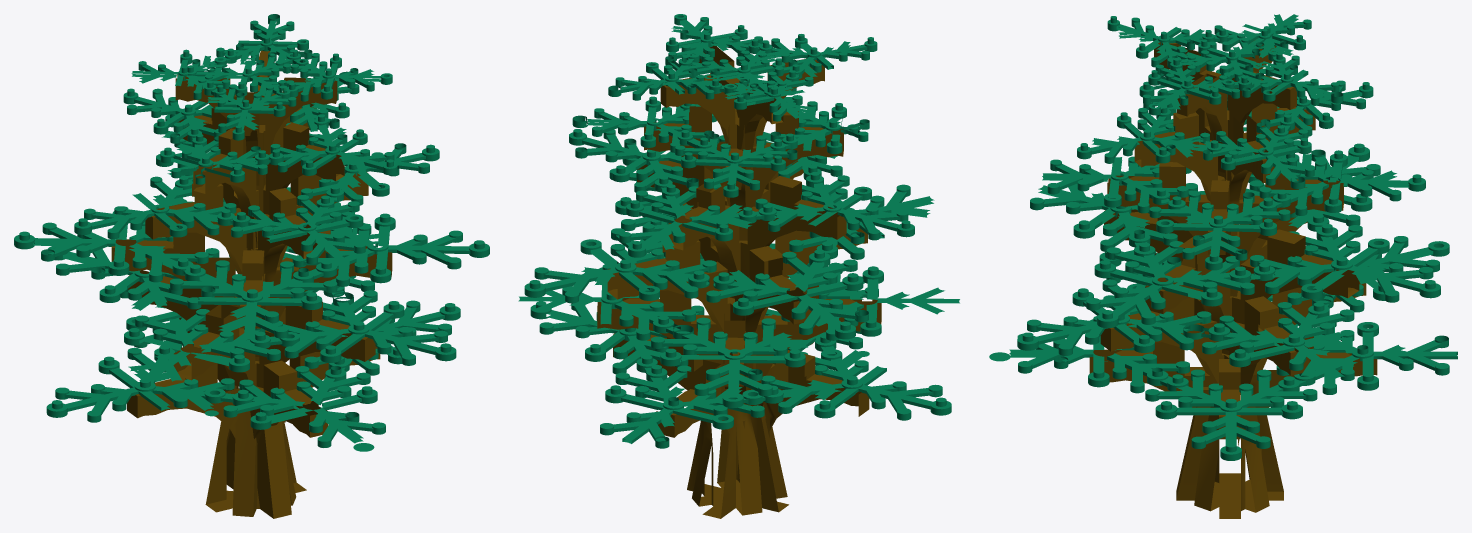
Rendered from Arbol.fbx.
3 renders of one model, left to right at view 1: azimuth 30°, elevation 25°; view 2: azimuth 150°, elevation 25°; view 3: azimuth 270°, elevation 25°, orthographic. The views are drawn at different scales.
Visible parts, largest first — view 1: Object_5; view 2: Object_5; view 3: Object_5.
Part boxes in pixels (x1,y1,x2,y2): Object_5: (14,14,489,518); Object_5: (518,14,959,518); Object_5: (989,14,1457,518).
Bounding box in the file's own units: 519 × 518 × 498.
